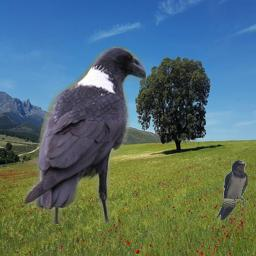Crow: (23, 46, 146, 224)
Swallow: (216, 160, 248, 220)
